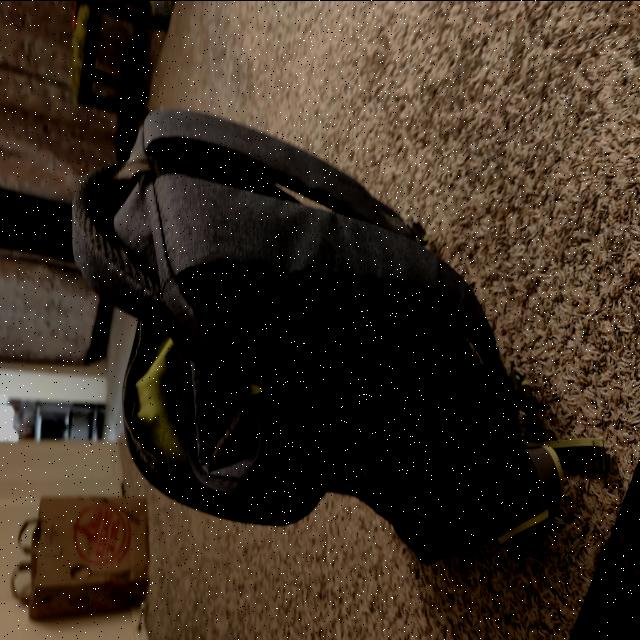bag: (115, 165, 489, 488)
